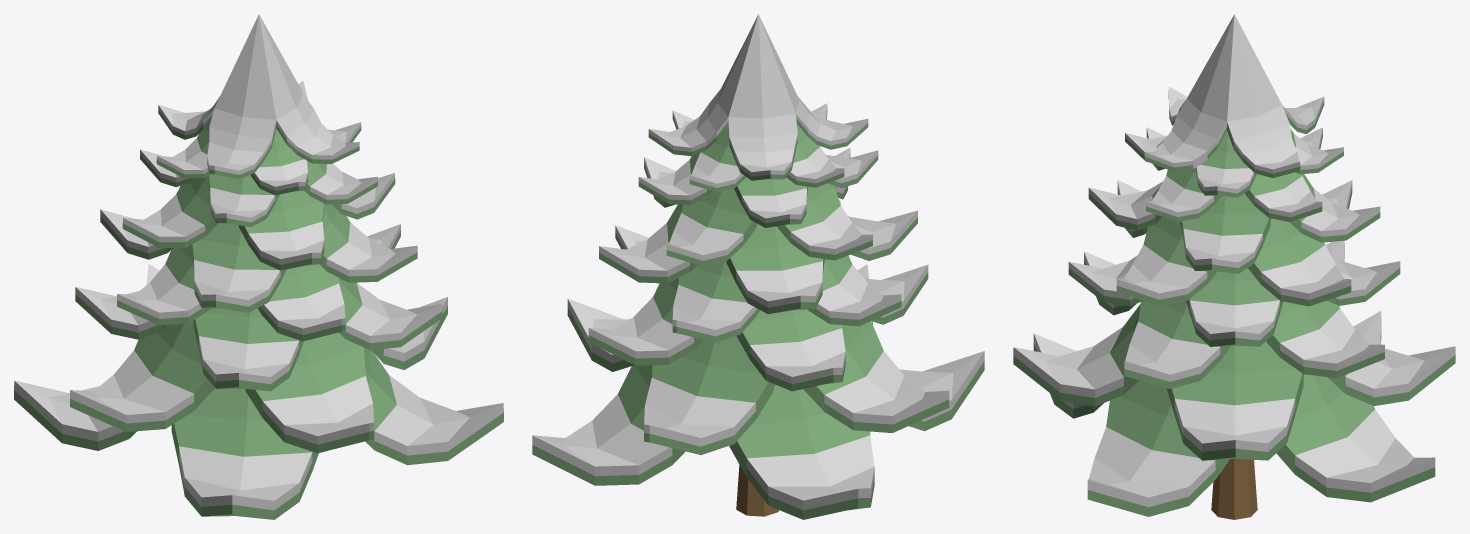
Rendered from PineTree_Snow.fbx.
The picture shows the model from 3 angles, left to right: view 1: azimuth 30°, elevation 25°; view 2: azimuth 150°, elevation 25°; view 3: azimuth 270°, elevation 25°; orthographic projection.
Parts seen in each view (by area): view 1: PineTree_Snow; view 2: PineTree_Snow; view 3: PineTree_Snow.
Part boxes in pixels (<box>): PineTree_Snow: <box>14,14,503,519</box>; PineTree_Snow: <box>532,14,984,519</box>; PineTree_Snow: <box>1013,14,1455,519</box>.
Bounding box in the file's own units: 540 × 669 × 540.
